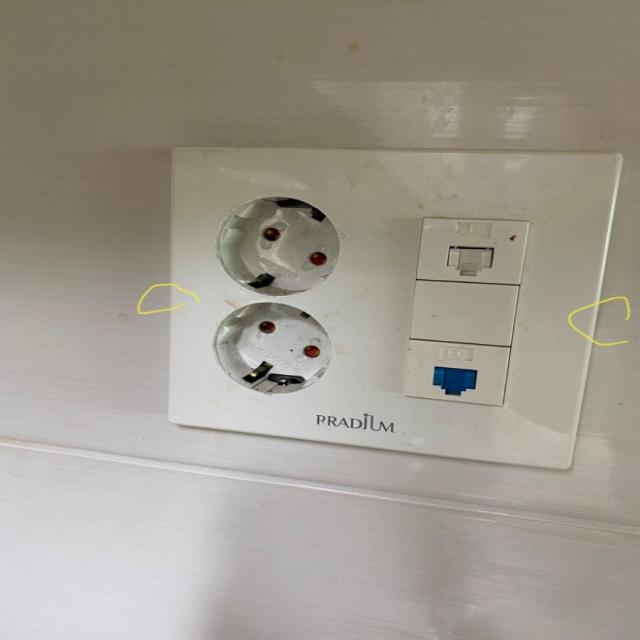typeb: (128, 115, 626, 494)
